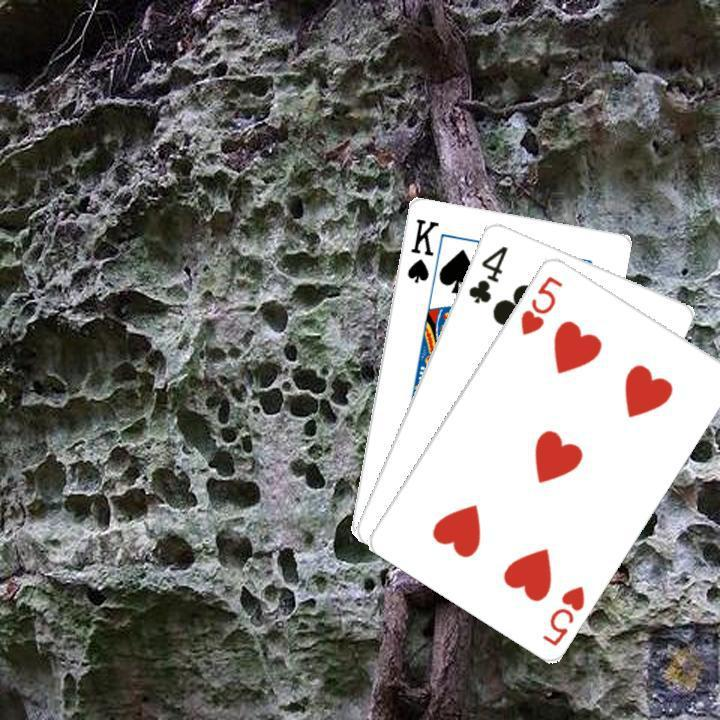4: (464, 241, 509, 305)
5: (515, 270, 565, 337), (538, 580, 587, 647)
K: (402, 213, 440, 285)
